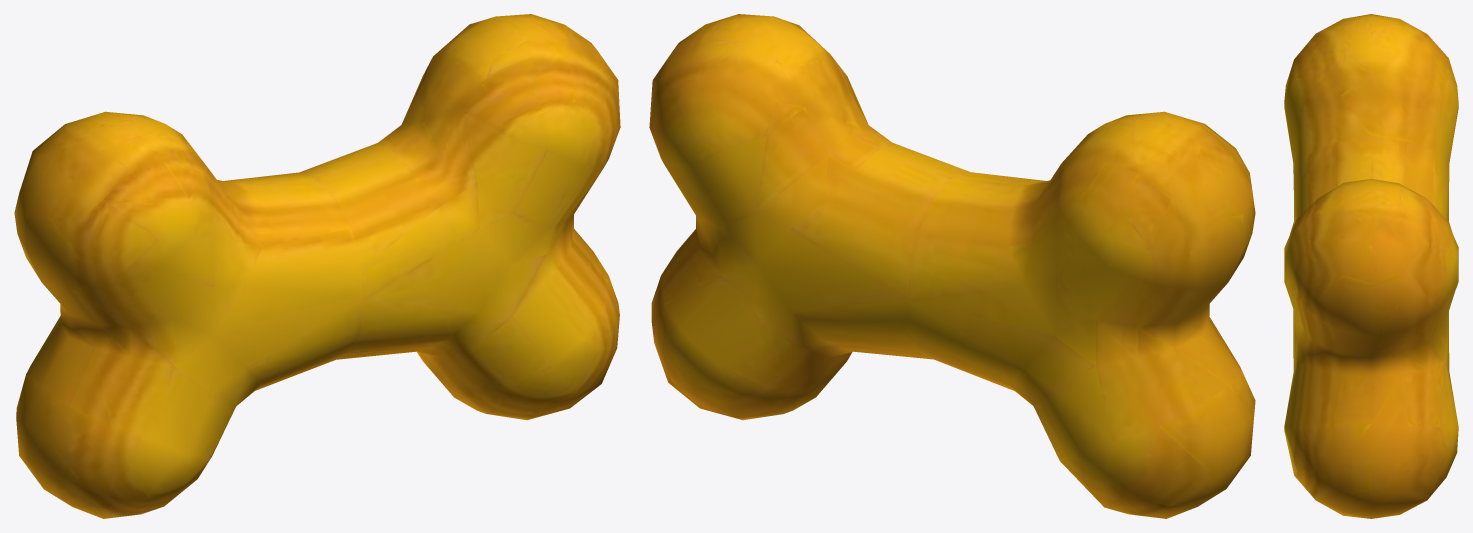
File: goldbone.glb
3 renders of one model, left to right at view 1: azimuth 30°, elevation 25°; view 2: azimuth 150°, elevation 25°; view 3: azimuth 270°, elevation 25°, orthographic. The views are drawn at different scales.
Parts seen in each view (by area): view 1: goldbone; view 2: goldbone; view 3: goldbone.
Part boxes in pixels (left/top/right/bottom): goldbone: left=14, top=14, right=620, bottom=518; goldbone: left=649, top=14, right=1255, bottom=518; goldbone: left=1284, top=14, right=1458, bottom=518.
Size of the model in its own units: 1.2 by 0.7643 by 0.3714.
Materials: 1 (1 with a texture image).
